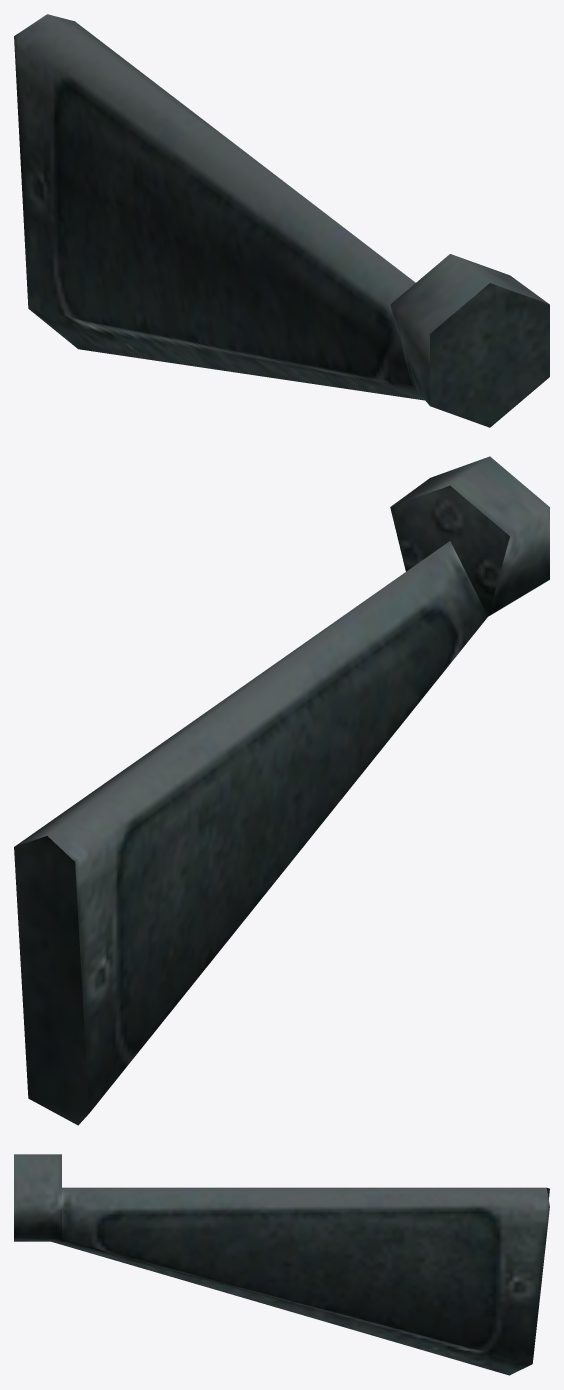
File: wp_carbine_laser_stock_l1.fbx
The picture shows the model from 3 angles, top to bottom: view 1: azimuth 30°, elevation 25°; view 2: azimuth 150°, elevation 25°; view 3: azimuth 270°, elevation 25°; orthographic projection. The views are drawn at different scales.
Visible parts, largest first — view 1: mesh_node; view 2: mesh_node; view 3: mesh_node.
Part boxes in pixels (bbox=[...]): mesh_node: bbox=[14, 14, 549, 427]; mesh_node: bbox=[14, 456, 549, 1125]; mesh_node: bbox=[14, 1154, 549, 1375].
Bounding box in the file's own units: 0.0415 × 0.1216 × 0.2671.
